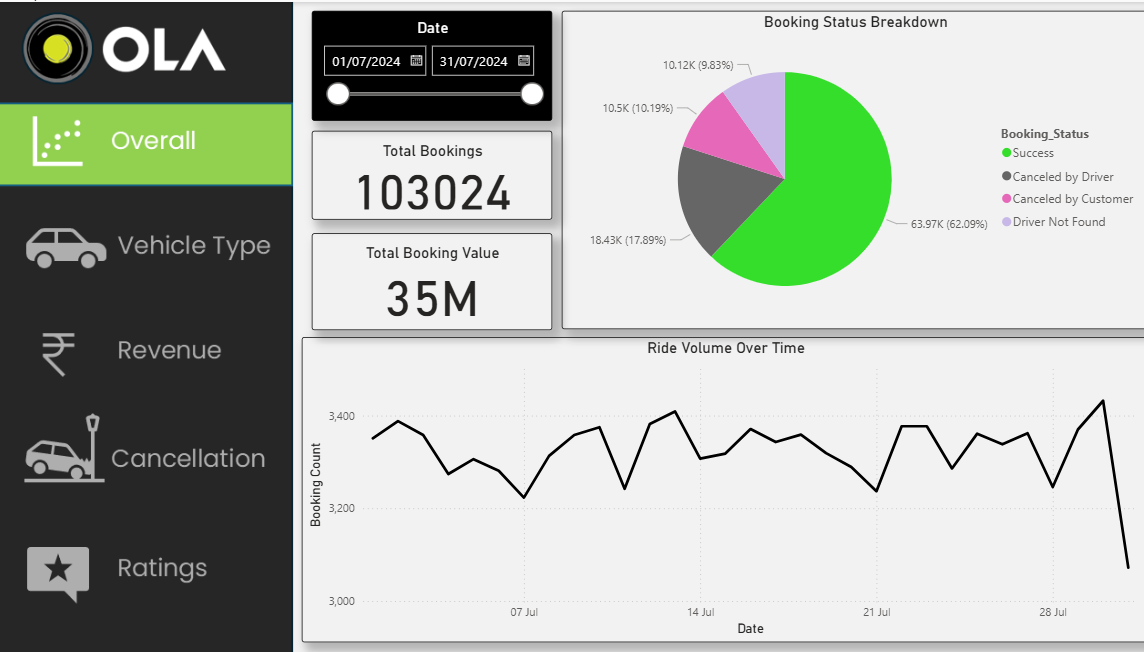

The dashboard page shown, as its layout file describes it:
{"tool":"powerbi","page":{"name":"Overall","canvas":[1280,720],"ordinal":0},"visuals":[{"type":"actionButton","box":[0,222,324.5,90.5],"z":0},{"type":"actionButton","box":[0,336.6,324.5,90.5],"z":1000},{"type":"actionButton","box":[0,447.6,324.5,90.5],"z":2000},{"type":"actionButton","box":[0,577.9,324.5,90.5],"z":3000},{"type":"lineChart","title":"Ride Volume Over Time","fields":{"Y":["CountNonNull(July.Booking_ID)"],"Category":["July.Date"]},"box":[333,368,930.2,335.4],"z":4000},{"type":"pieChart","title":"Booking Status Breakdown","fields":{"Category":["July.Booking_Status"],"Y":["CountNonNull(July.Booking_Status)"]},"box":[618.9,9.7,644.2,349.9],"z":5000},{"type":"slicer","title":"Date","fields":{"Values":["July.Date"]},"box":[343.8,9.7,264.2,120.6],"z":6000},{"type":"card","title":"Total Bookings","fields":{"Values":["CountNonNull(July.Booking_ID)"]},"box":[343.8,141.2,264.2,97.7],"z":7000},{"type":"card","title":"Total Booking Value","fields":{"Values":["Sum(July.Booking_Value)"]},"box":[343.8,253.4,264.2,106.2],"z":8000}]}

Visuals, with their boxes in screenshot pixels (x1, y1, x2, y2), scaled from the page's 1280x720 canvas onto the 1144x652 screenshot:
actionButton: 0:201:290:283
actionButton: 0:305:290:387
actionButton: 0:405:290:487
actionButton: 0:523:290:605
"Ride Volume Over Time" lineChart: 298:333:1129:637
"Booking Status Breakdown" pieChart: 553:9:1129:326
"Date" slicer: 307:9:543:118
"Total Bookings" card: 307:128:543:216
"Total Booking Value" card: 307:229:543:326
